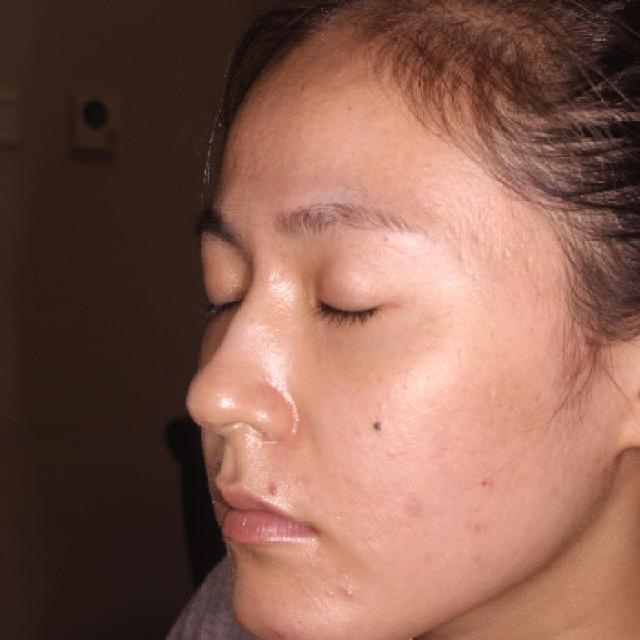Acne: (262, 477, 289, 503), (469, 471, 498, 495)
Blackheads: (357, 411, 388, 440)
Whiteheads: (339, 580, 366, 608)
